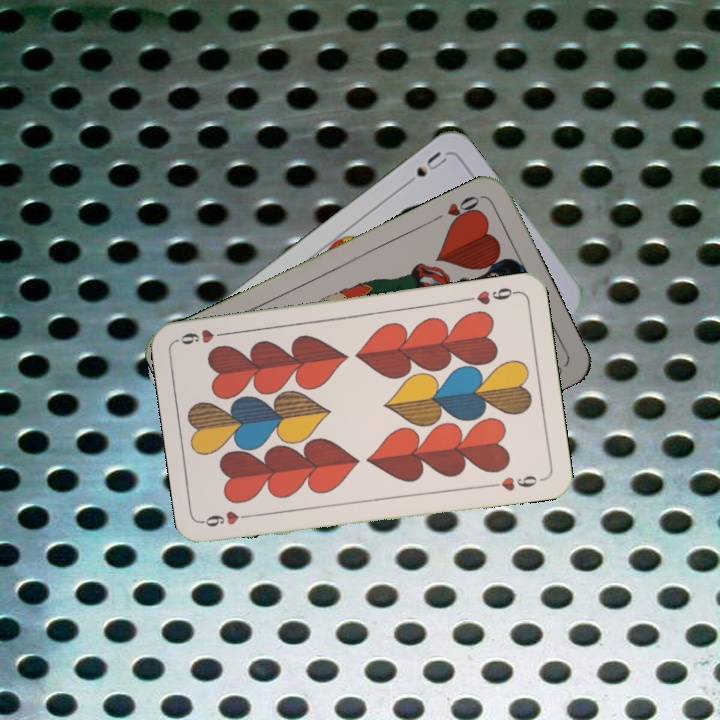H9: (462, 283, 521, 307), (200, 508, 259, 530)
HO: (428, 191, 483, 228)
SU: (398, 147, 450, 191)
